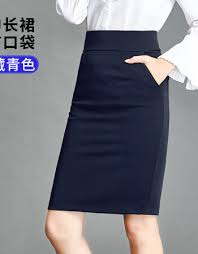F_tailored skirt: (37, 24, 176, 230)
